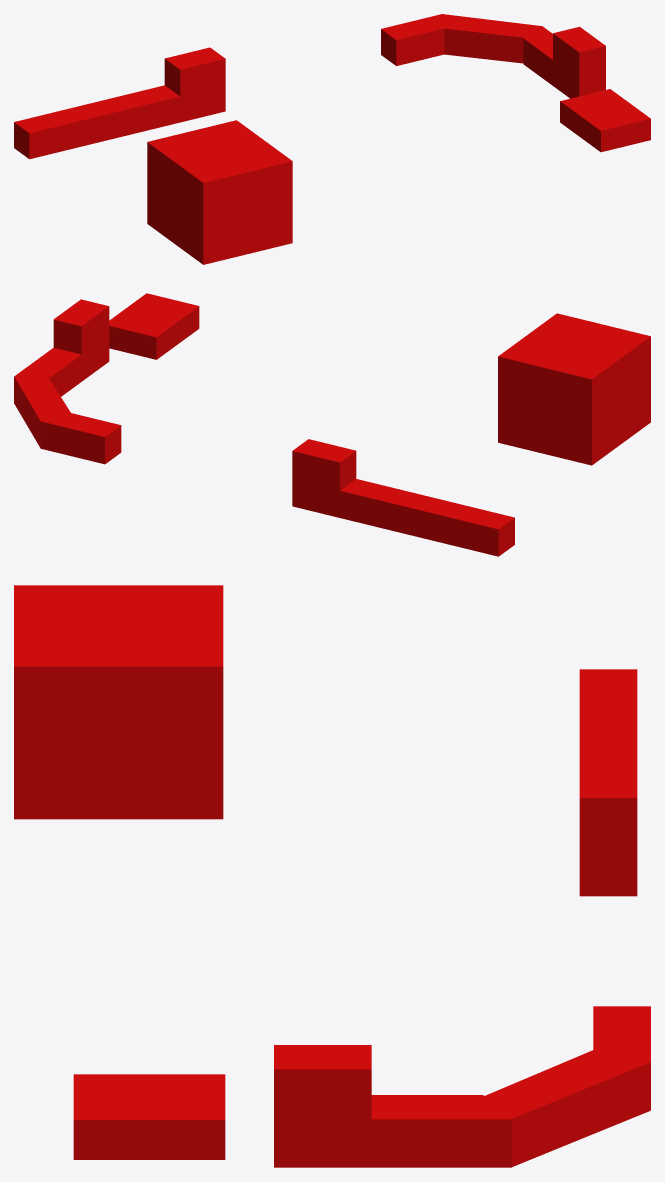
File: SM_Bld_Commercial_Small_01_Attachment_01_Collision.fbx
3 renders of one model, top to bottom at view 1: azimuth 30°, elevation 25°; view 2: azimuth 150°, elevation 25°; view 3: azimuth 270°, elevation 25°, orthographic. The views are drawn at different scales.
Parts seen in each view (by area): view 1: SM_Bld_Commercial_Small_01_Attachment_01_Collision; view 2: SM_Bld_Commercial_Small_01_Attachment_01_Collision; view 3: SM_Bld_Commercial_Small_01_Attachment_01_Collision.
Part boxes in pixels (bbox=[...]): SM_Bld_Commercial_Small_01_Attachment_01_Collision: bbox=[14, 14, 650, 264]; SM_Bld_Commercial_Small_01_Attachment_01_Collision: bbox=[14, 293, 650, 556]; SM_Bld_Commercial_Small_01_Attachment_01_Collision: bbox=[14, 585, 650, 1167].
Size of the model in its own units: 1599 by 253 by 957.
